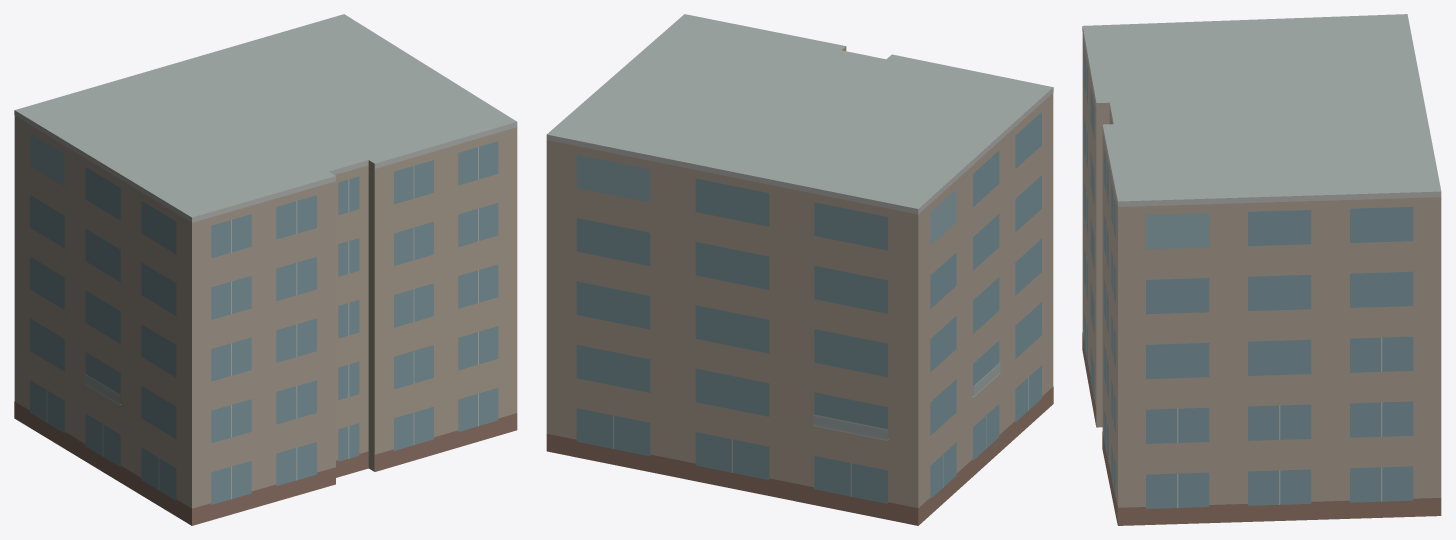
The model's file is survey-upis-32739606.glb.
The picture shows the model from 3 angles, left to right: view 1: azimuth 30°, elevation 25°; view 2: azimuth 150°, elevation 25°; view 3: azimuth 270°, elevation 25°; orthographic projection. The views are drawn at different scales.
Visible parts, largest first — view 1: survey-upis-32739606.tmp; view 2: survey-upis-32739606.tmp; view 3: survey-upis-32739606.tmp.
Boxes of the visible parts, x1,y1,x2,y2 form: survey-upis-32739606.tmp: [14, 14, 517, 525]; survey-upis-32739606.tmp: [546, 14, 1053, 525]; survey-upis-32739606.tmp: [1082, 14, 1441, 525].
Bounding box in the file's own units: 17.74 × 14.3 × 14.35.
